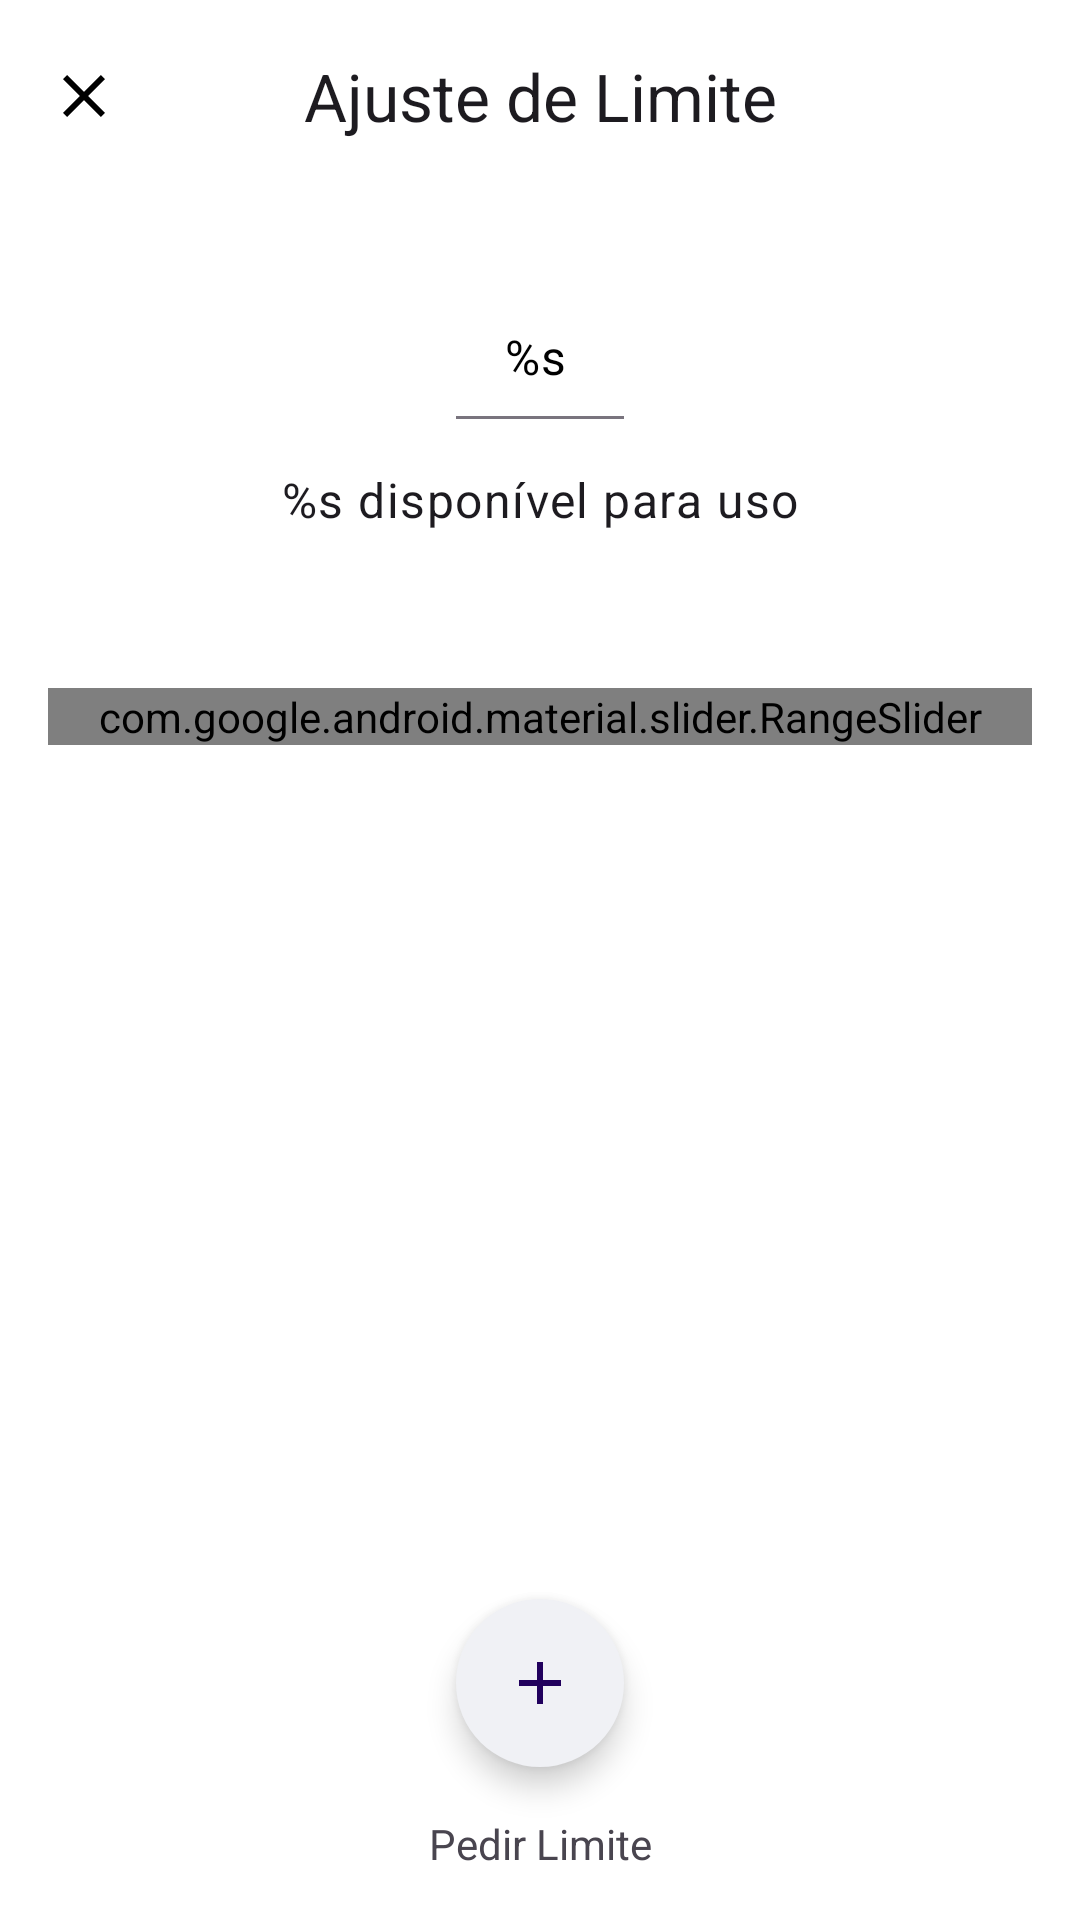

Icon bounding boxes for this 1080x1920 phone screenshot, format [x1, y1, x2, y2]:
add: [456, 1599, 624, 1767]
